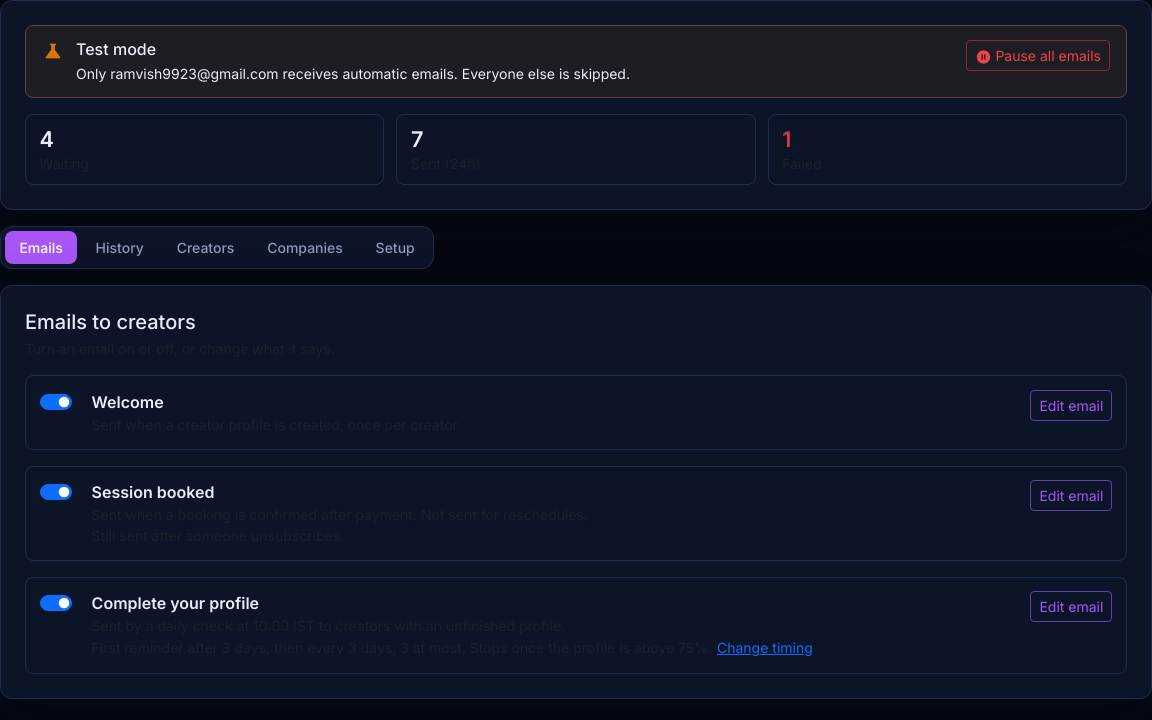
Test: Email control › the Setup tab shows only the seven settings, with the password hidden
Expected: the text "Sender Name" is not shown
Click the tab "Setup" at (395, 248), box [361,231,429,264]
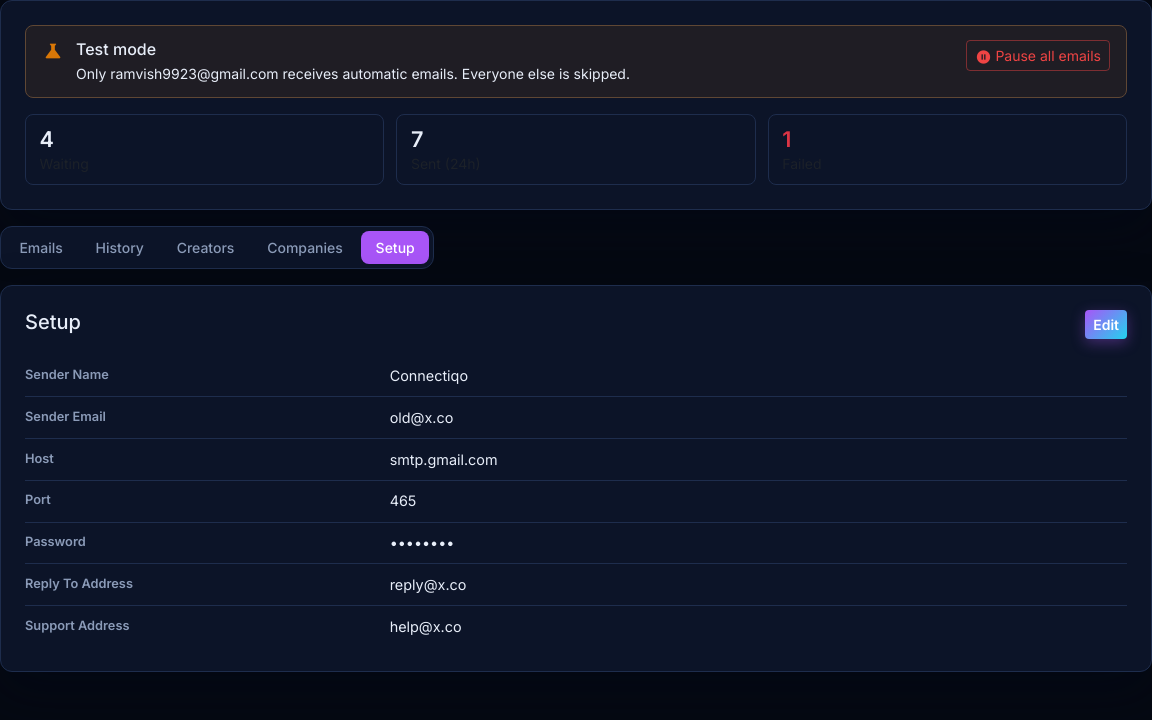
Expected: the number of buttons "Edit" is 1, [1085,310,1127,339]
